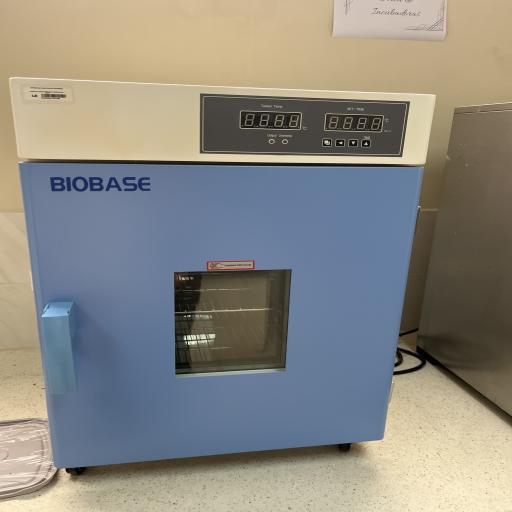Horno_Secado_Biobase: (1, 68, 441, 488)
